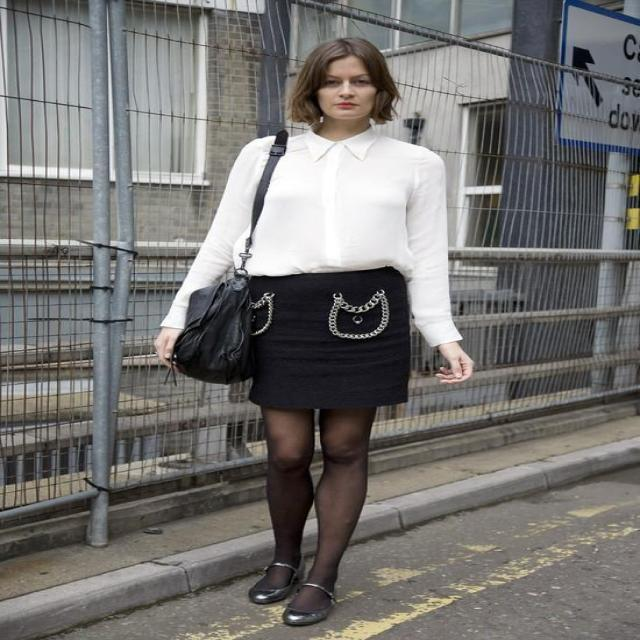shirt: (158, 122, 464, 350)
skirt: (248, 265, 409, 408)
